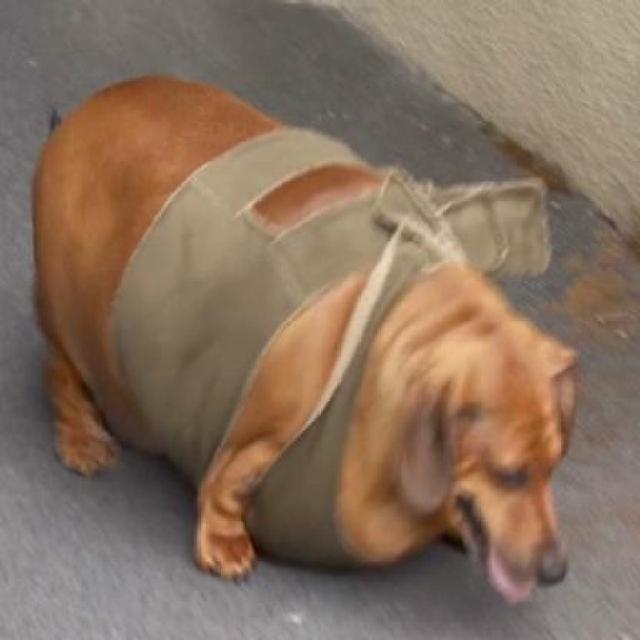Dog: (31, 72, 580, 605)
